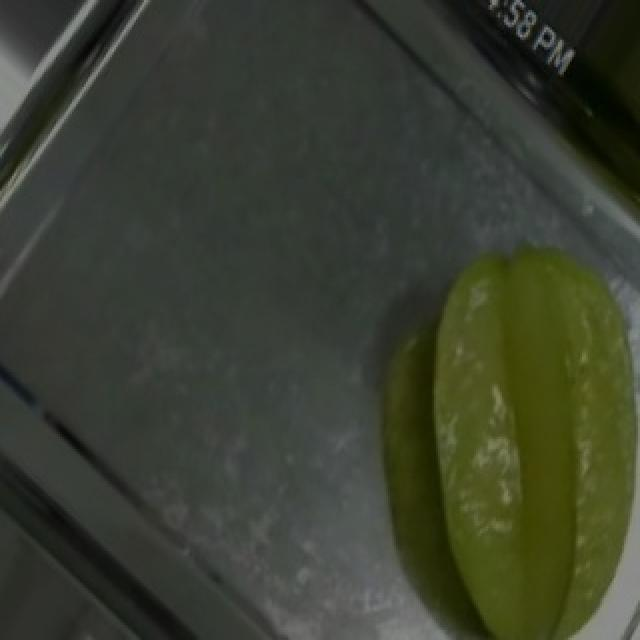fruit: (402, 199, 640, 620)
